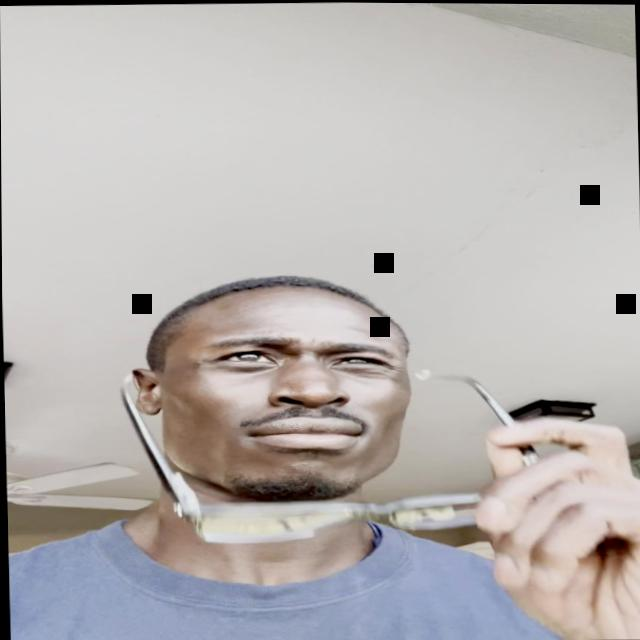NO-Mask: (139, 279, 431, 519)
